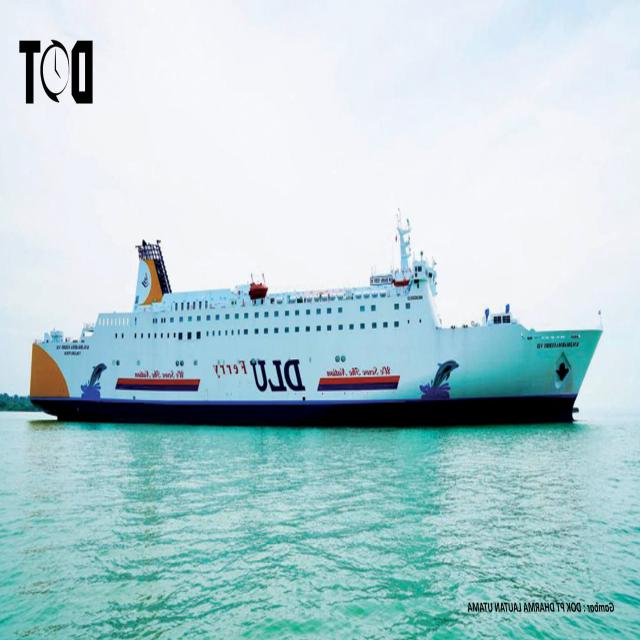PassengerShip: (20, 193, 604, 449)
